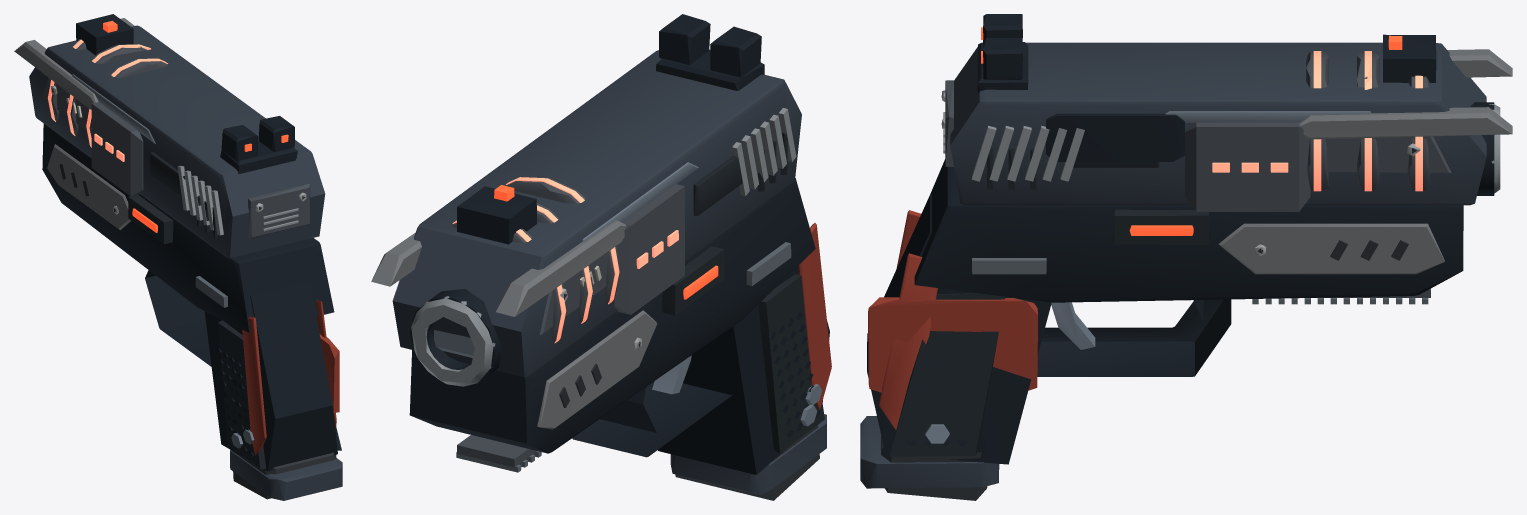
The model's file is stun.glb.
The picture shows the model from 3 angles, left to right: view 1: azimuth 30°, elevation 25°; view 2: azimuth 150°, elevation 25°; view 3: azimuth 270°, elevation 25°; orthographic projection. The views are drawn at different scales.
Parts seen in each view (by area): view 1: slide, body, mag; view 2: slide, body, mag, trigger; view 3: slide, body, mag, trigger.
Boxes of the visible parts, left/top/right/bottom form: slide: left=14, top=14, right=325, bottom=257; body: left=42, top=124, right=341, bottom=470; mag: left=230, top=450, right=342, bottom=500; slide: left=371, top=14, right=801, bottom=377; body: left=409, top=178, right=831, bottom=474; mag: left=670, top=414, right=826, bottom=500; trigger: left=652, top=355, right=691, bottom=394; slide: left=941, top=14, right=1512, bottom=211; body: left=867, top=102, right=1500, bottom=464; mag: left=860, top=416, right=999, bottom=500; trigger: left=1051, top=302, right=1095, bottom=349.
Bounding box in the file's own units: 0.136 × 0.3884 × 0.5142.
